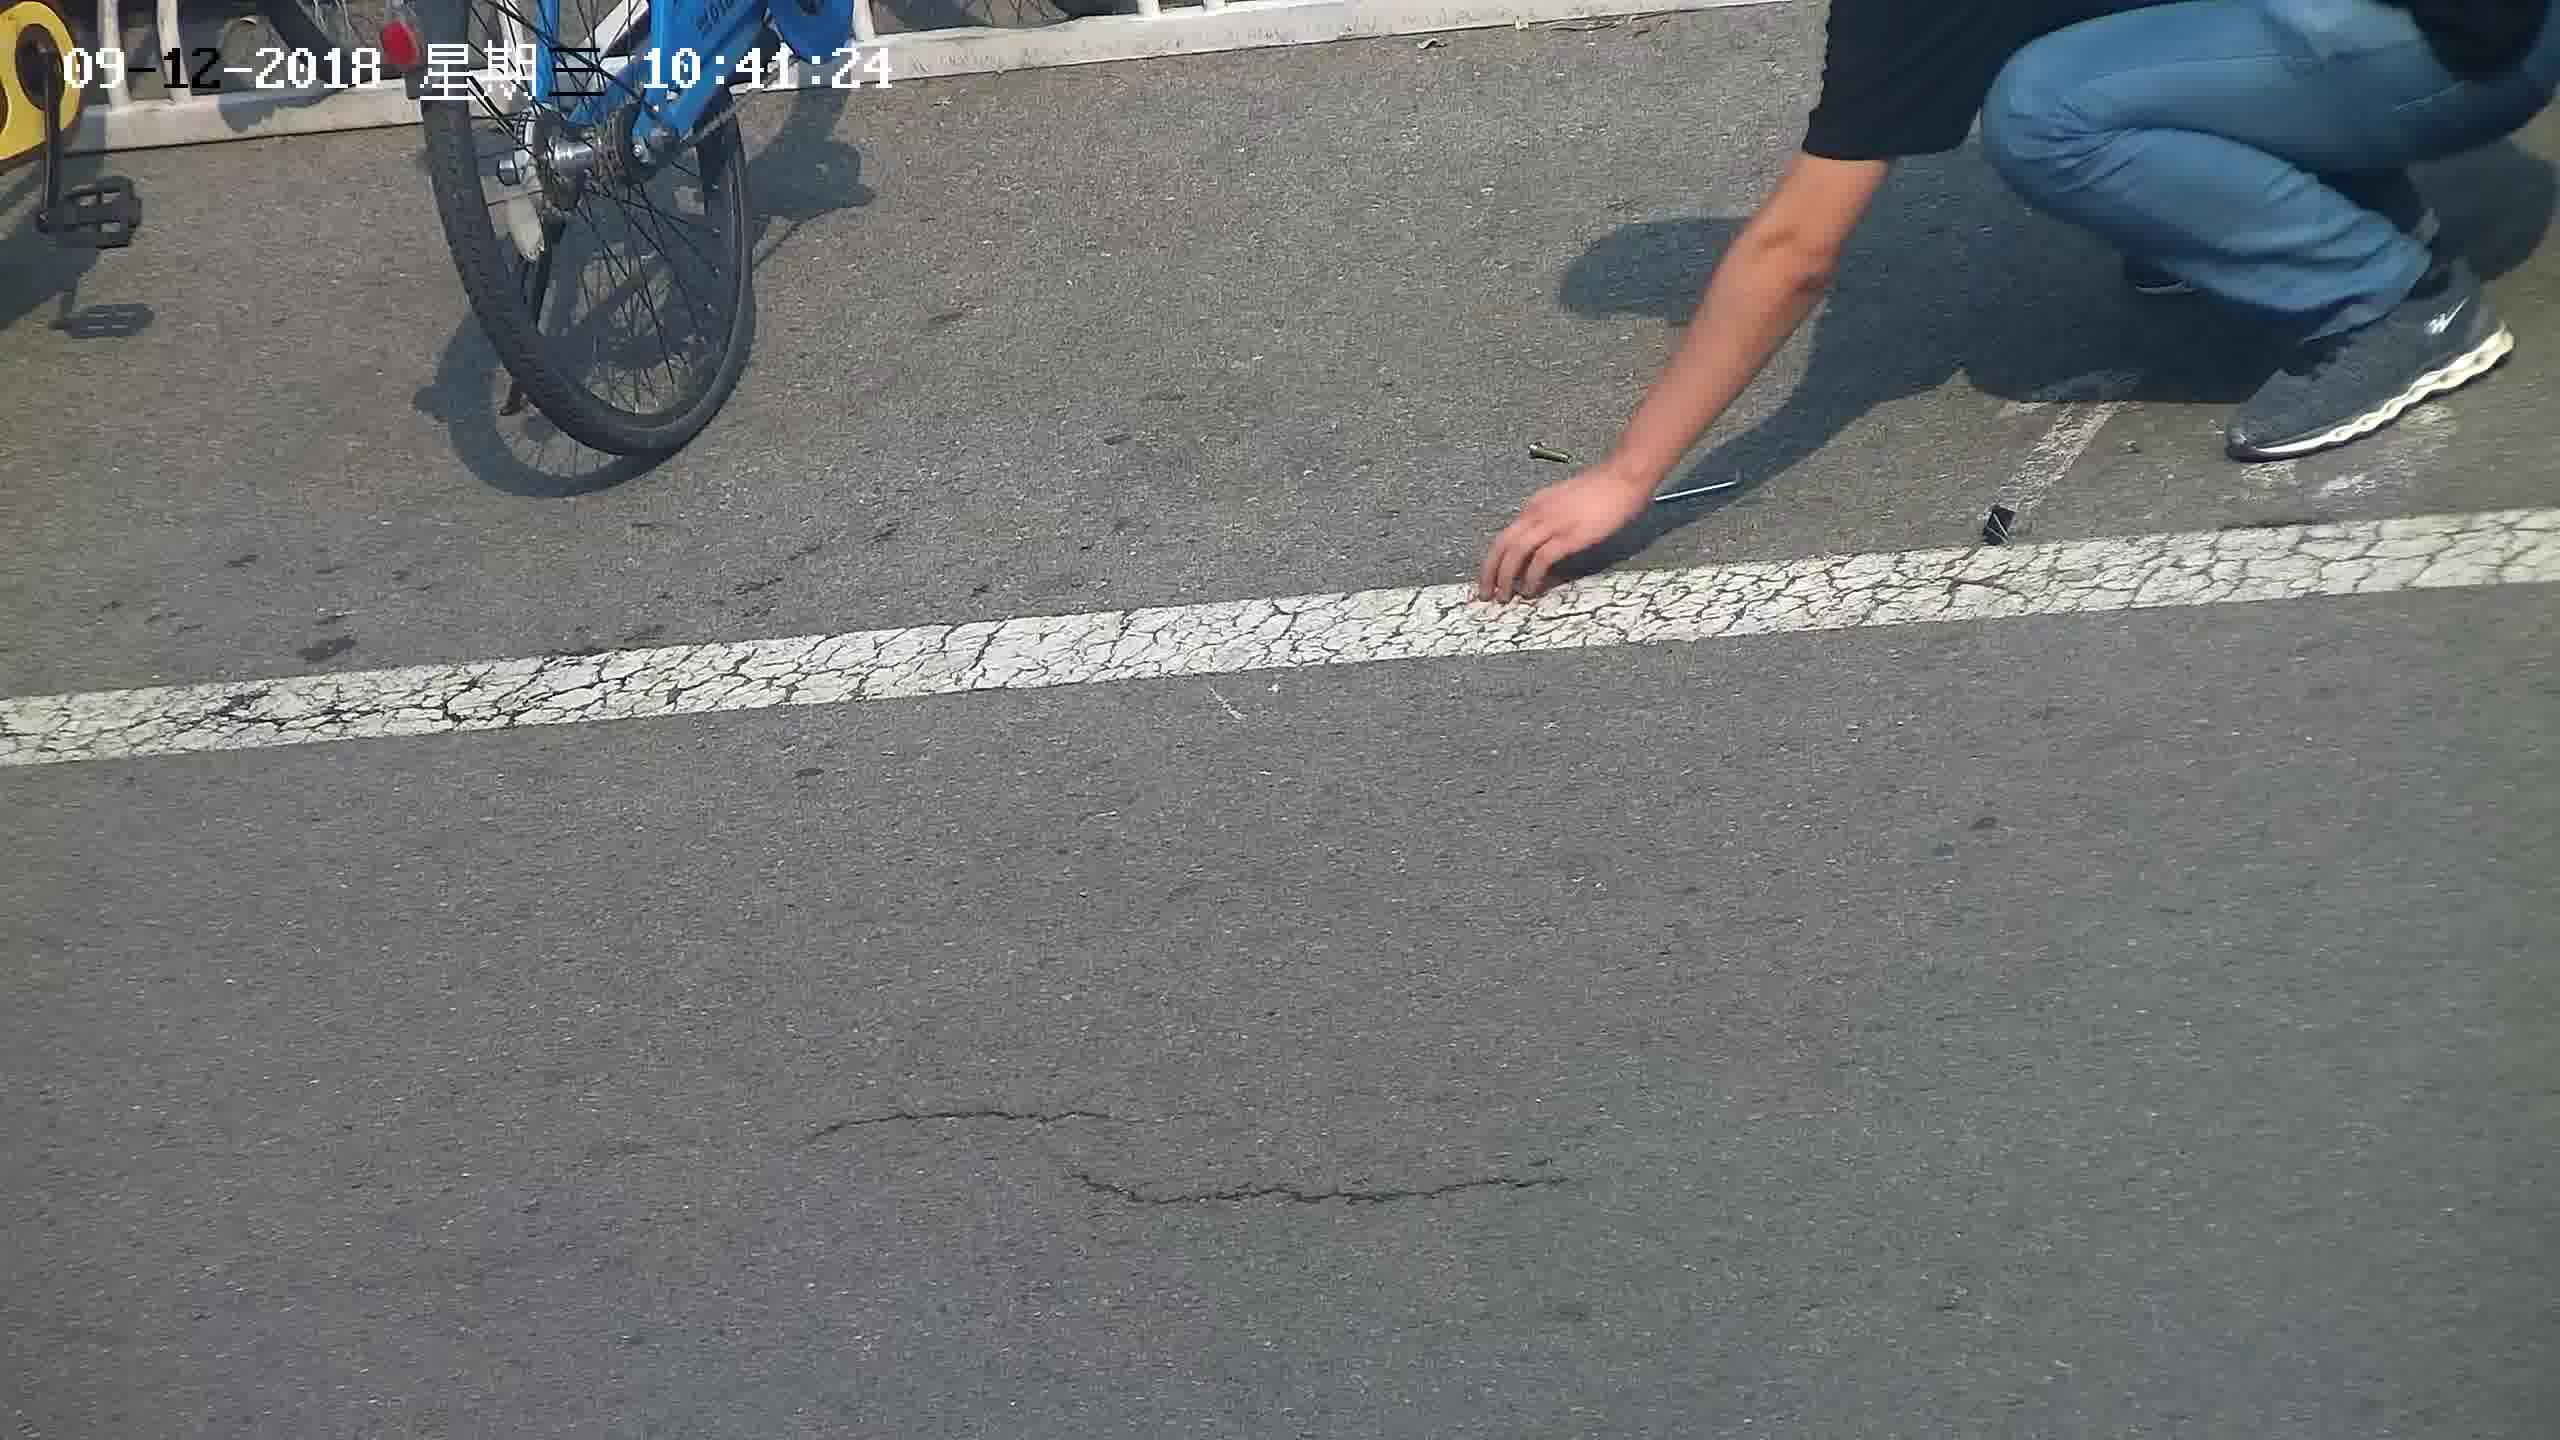L_stick: (1649, 459, 1749, 512)
clip_B: (1976, 506, 2040, 554)
nail: (1523, 438, 1577, 468)
